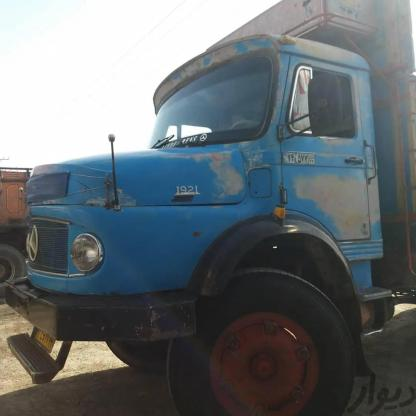Truck: (0, 0, 416, 416), (0, 155, 41, 318)
